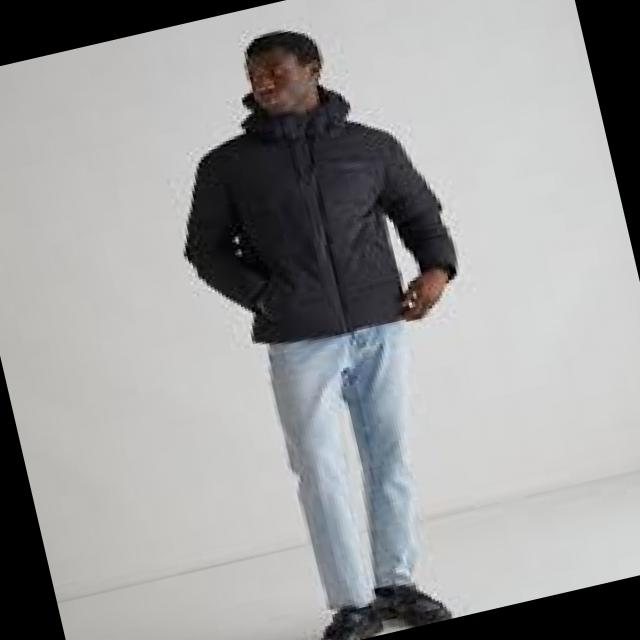Jacket: (154, 60, 460, 359)
